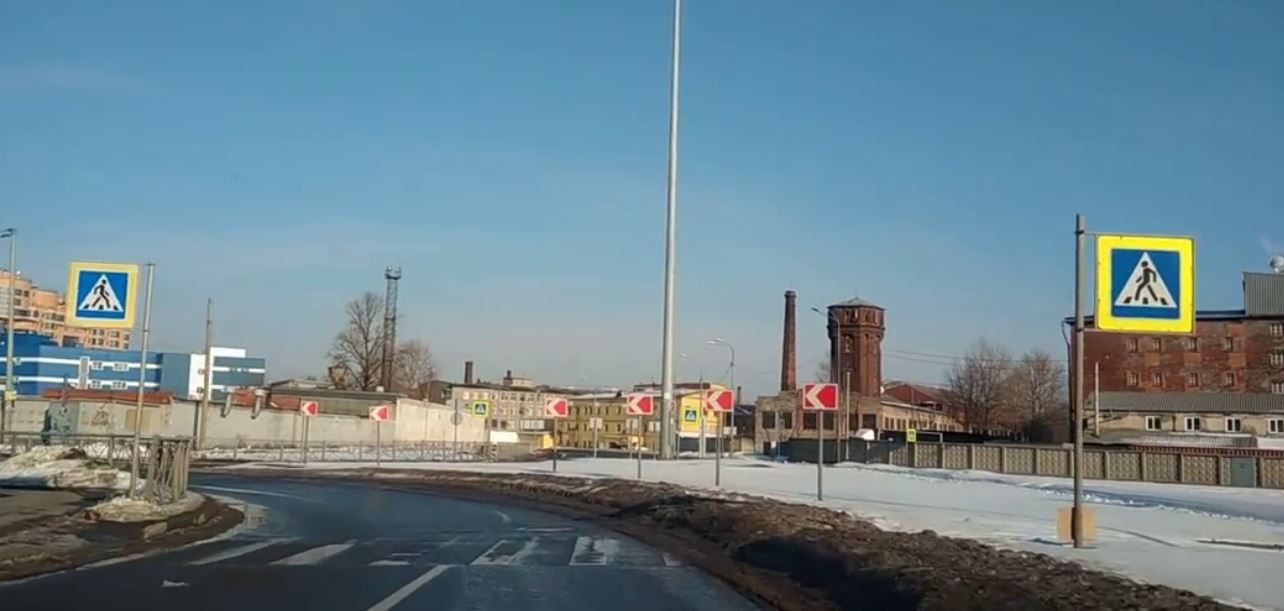Yaya Gecidi: (1109, 246, 1184, 324), (78, 272, 120, 319)
